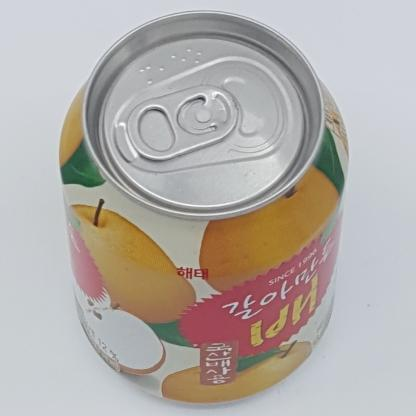-------238ML: (58, 9, 349, 406)
